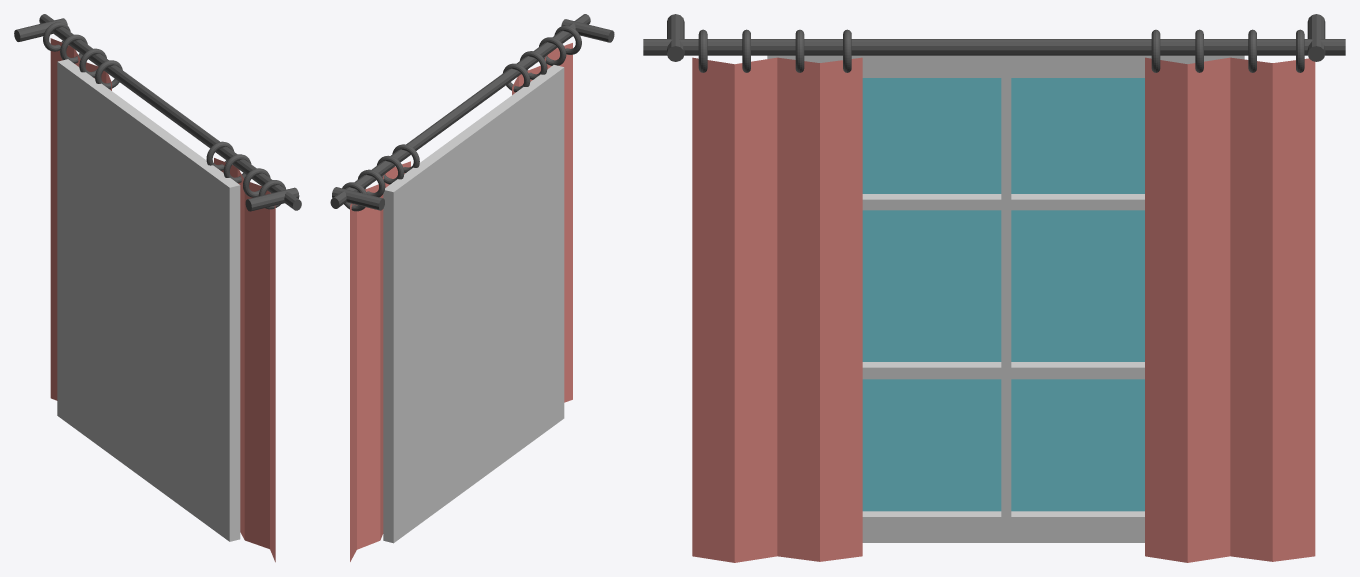
Rendered from ventana.fbx.
3 renders of one model, left to right at view 1: azimuth 30°, elevation 25°; view 2: azimuth 150°, elevation 25°; view 3: azimuth 270°, elevation 25°, orthographic. The views are drawn at different scales.
Parts seen in each view (by area): view 1: Cube, Plano, Plano.001, Cilindro.002, Cilindro, Cilindro.001; view 2: Cube, Plano.001, Plano, Cilindro.002, Cilindro.001, Cilindro; view 3: Cube, Plano, Plano.001, Cilindro.002.
Boxes of the visible parts, <box> form: Cube: <box>57,59,240,541</box>; Plano: <box>214,158,275,562</box>; Plano.001: <box>50,38,111,400</box>; Cilindro.002: <box>39,14,301,210</box>; Cilindro: <box>245,187,299,211</box>; Cilindro.001: <box>14,18,67,41</box>; Cube: <box>383,65,564,543</box>; Plano.001: <box>350,161,410,561</box>; Plano: <box>512,43,572,402</box>; Cilindro.002: <box>330,14,590,208</box>; Cilindro.001: <box>332,187,384,210</box>; Cilindro: <box>561,19,614,42</box>; Cube: <box>767,55,1244,542</box>; Plano: <box>692,57,862,562</box>; Plano.001: <box>1145,57,1315,562</box>; Cilindro.002: <box>643,39,1345,55</box>.
Size of the model in its own units: 0.7498 by 5.73 by 6.94.
